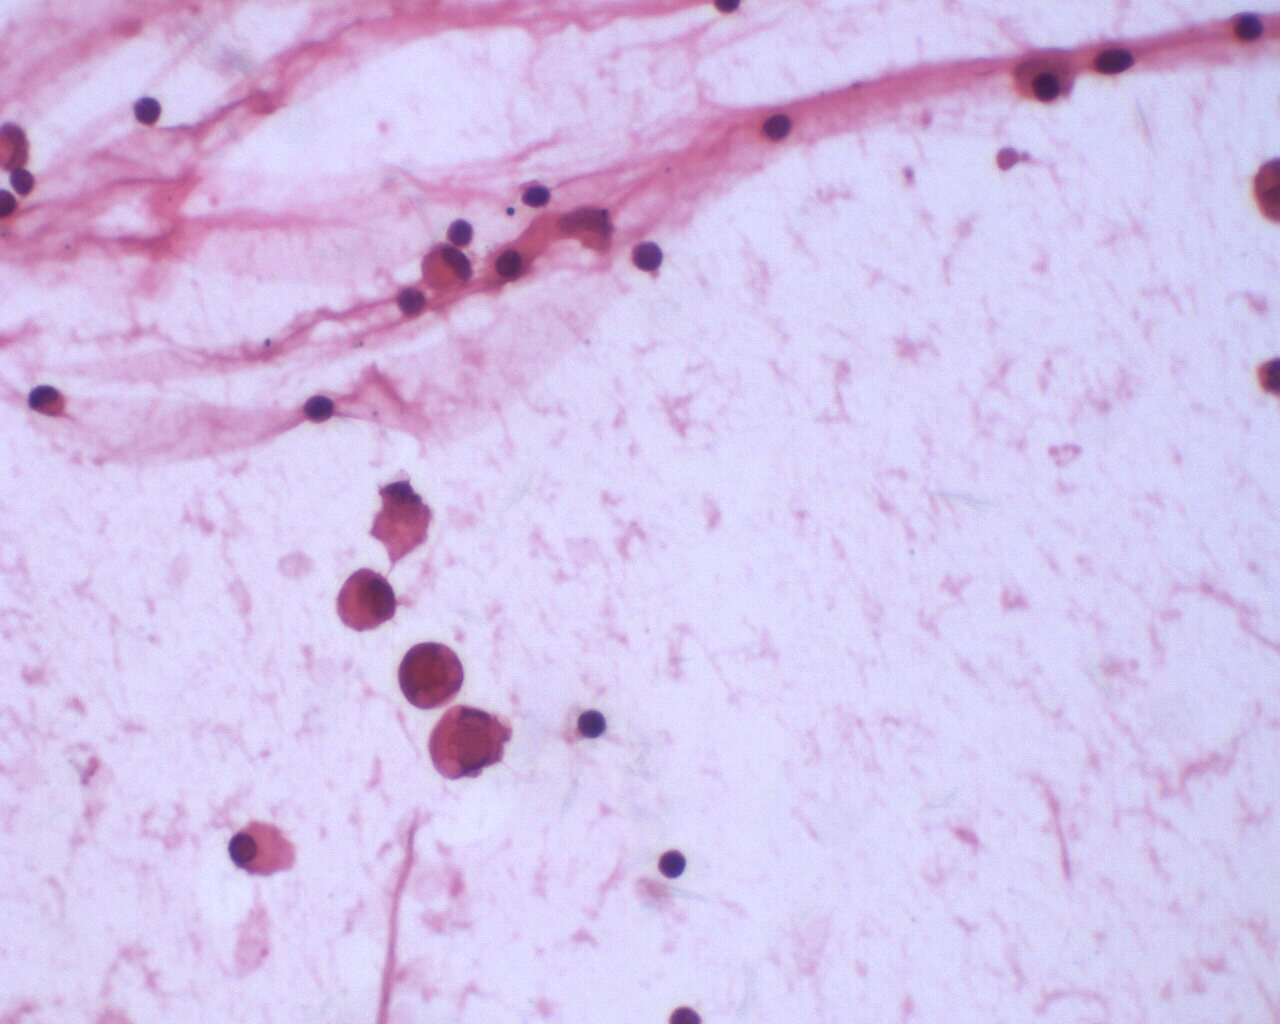ab: (397, 636, 469, 711)
lymph: (623, 233, 668, 274), (298, 388, 341, 428), (654, 842, 694, 885), (575, 703, 610, 746)
meso: (326, 562, 404, 637)
